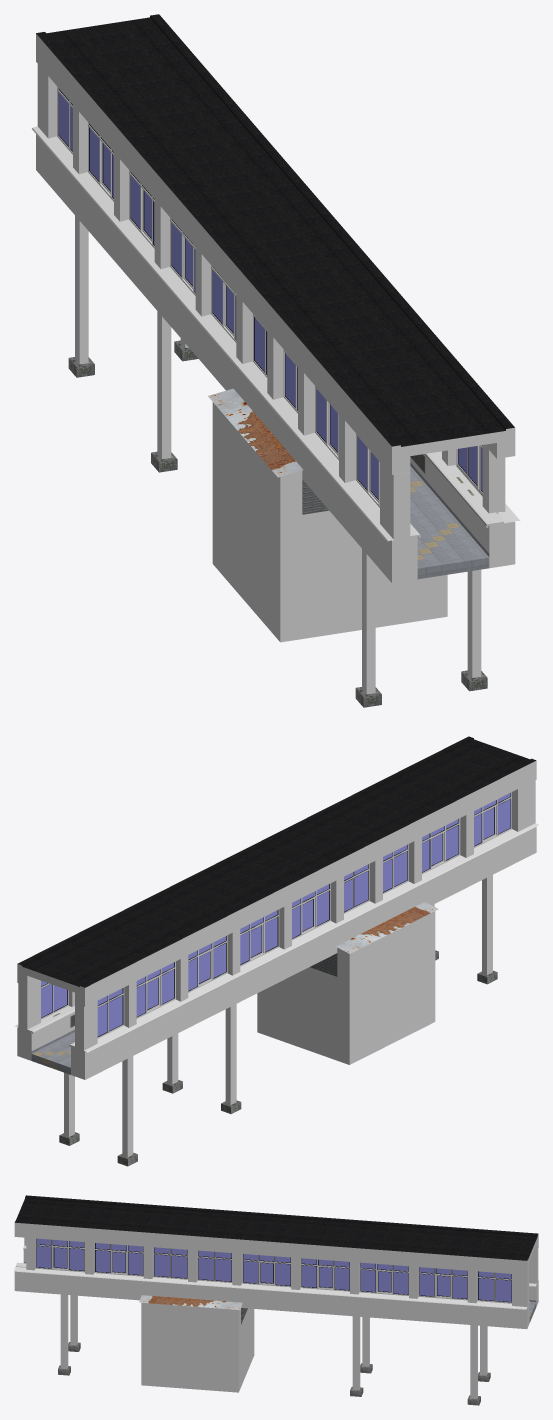
The model's file is Banka.fbx.
3 renders of one model, top to bottom at view 1: azimuth 30°, elevation 25°; view 2: azimuth 150°, elevation 25°; view 3: azimuth 270°, elevation 25°, orthographic. The views are drawn at different scales.
Parts seen in each view (by area): view 1: Cube.005, Cube.007, Cube.011, 3FramedWindow, Floor, Cube.012, 3FramedWindow.001, MetalPillar, MetalPillar.003, MetalPillar.005, Cube.015, Cube.017 (+7 smaller); view 2: Cube.005, Cube.007, 3FramedWindow, Cube.011, 3FramedWindow.001, Cube.012, Cube.013, 2FramedWindow.001, 2FramedWindow, MetalPillar.003, MetalPillar, MetalPillar.005 (+7 smaller); view 3: Cube.005, Cube.007, 3FramedWindow, 3FramedWindow.001, Cube.011, 2FramedWindow.001, Cube.012, 2FramedWindow, Cube.013, MetalPillar.002, MetalPillar.004, MetalPillar.001 (+6 smaller).
Part boxes in pixels (x1,y1,x2,y2): Cube.005: (36,14,515,583); Cube.007: (208,388,447,642); Cube.011: (32,126,520,541); 3FramedWindow: (88,122,236,342); Floor: (410,466,489,579); Cube.012: (73,105,210,316); 3FramedWindow.001: (315,386,482,507); MetalPillar: (151,311,177,472); MetalPillar.003: (68,215,94,377); MetalPillar.005: (355,549,381,707); Cube.015: (298,366,456,482); Cube.017: (380,461,410,540); Cube.005: (17,736,536,1079); Cube.007: (257,902,438,1064); 3FramedWindow: (136,883,330,1018); Cube.011: (14,823,538,1052); 3FramedWindow.001: (422,792,511,874); Cube.012: (69,903,291,1027); Cube.013: (18,980,97,1050); 2FramedWindow.001: (344,844,408,913); 2FramedWindow: (41,980,124,1038); MetalPillar.003: (117,1056,137,1166); MetalPillar: (221,1004,241,1113); MetalPillar.005: (477,875,497,984); Cube.005: (14,1195,538,1329); Cube.007: (139,1295,254,1392); 3FramedWindow: (242,1254,467,1300); 3FramedWindow.001: (35,1238,143,1276); Cube.011: (14,1266,538,1309); 2FramedWindow.001: (153,1247,232,1282); Cube.012: (291,1257,477,1303); 2FramedWindow: (477,1271,511,1303); Cube.013: (512,1249,538,1306); MetalPillar.002: (350,1316,363,1396); MetalPillar.004: (58,1294,70,1375); MetalPillar.001: (467,1325,480,1405).
Size of the model in its own units: 8.19 by 8.35 by 26.81.
Materials: 20 (10 with a texture image).
